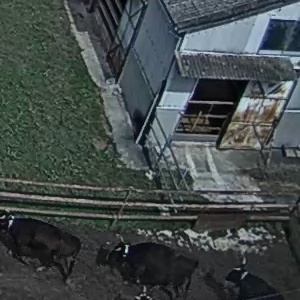cow: (99, 233, 196, 300), (2, 208, 82, 284), (226, 255, 287, 300)
